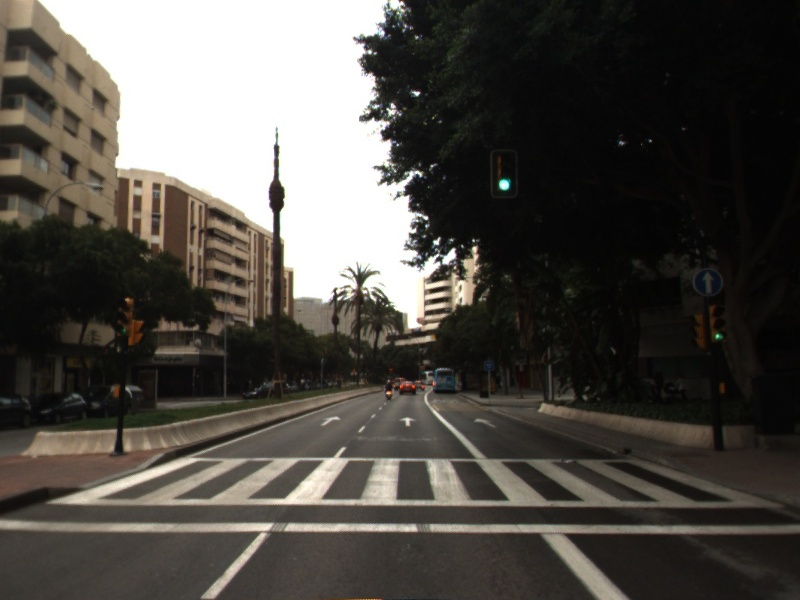STRAIGHT: (472, 416, 498, 430), (318, 414, 343, 428), (397, 415, 418, 428)
